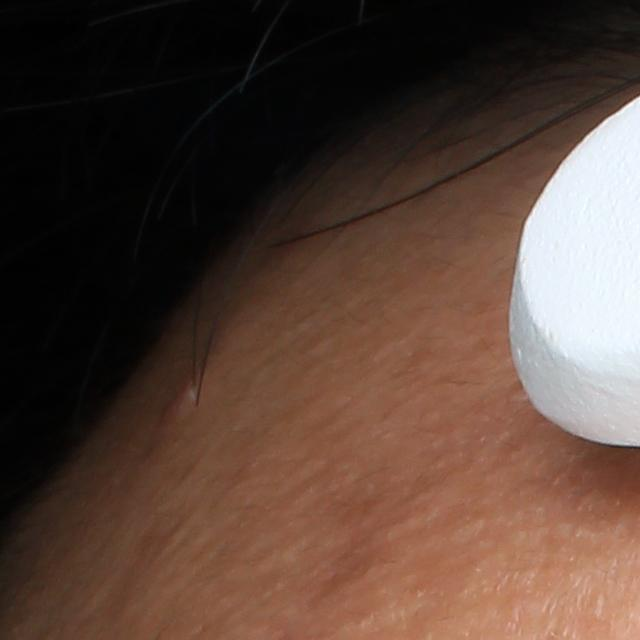papule: (150, 361, 215, 425)
